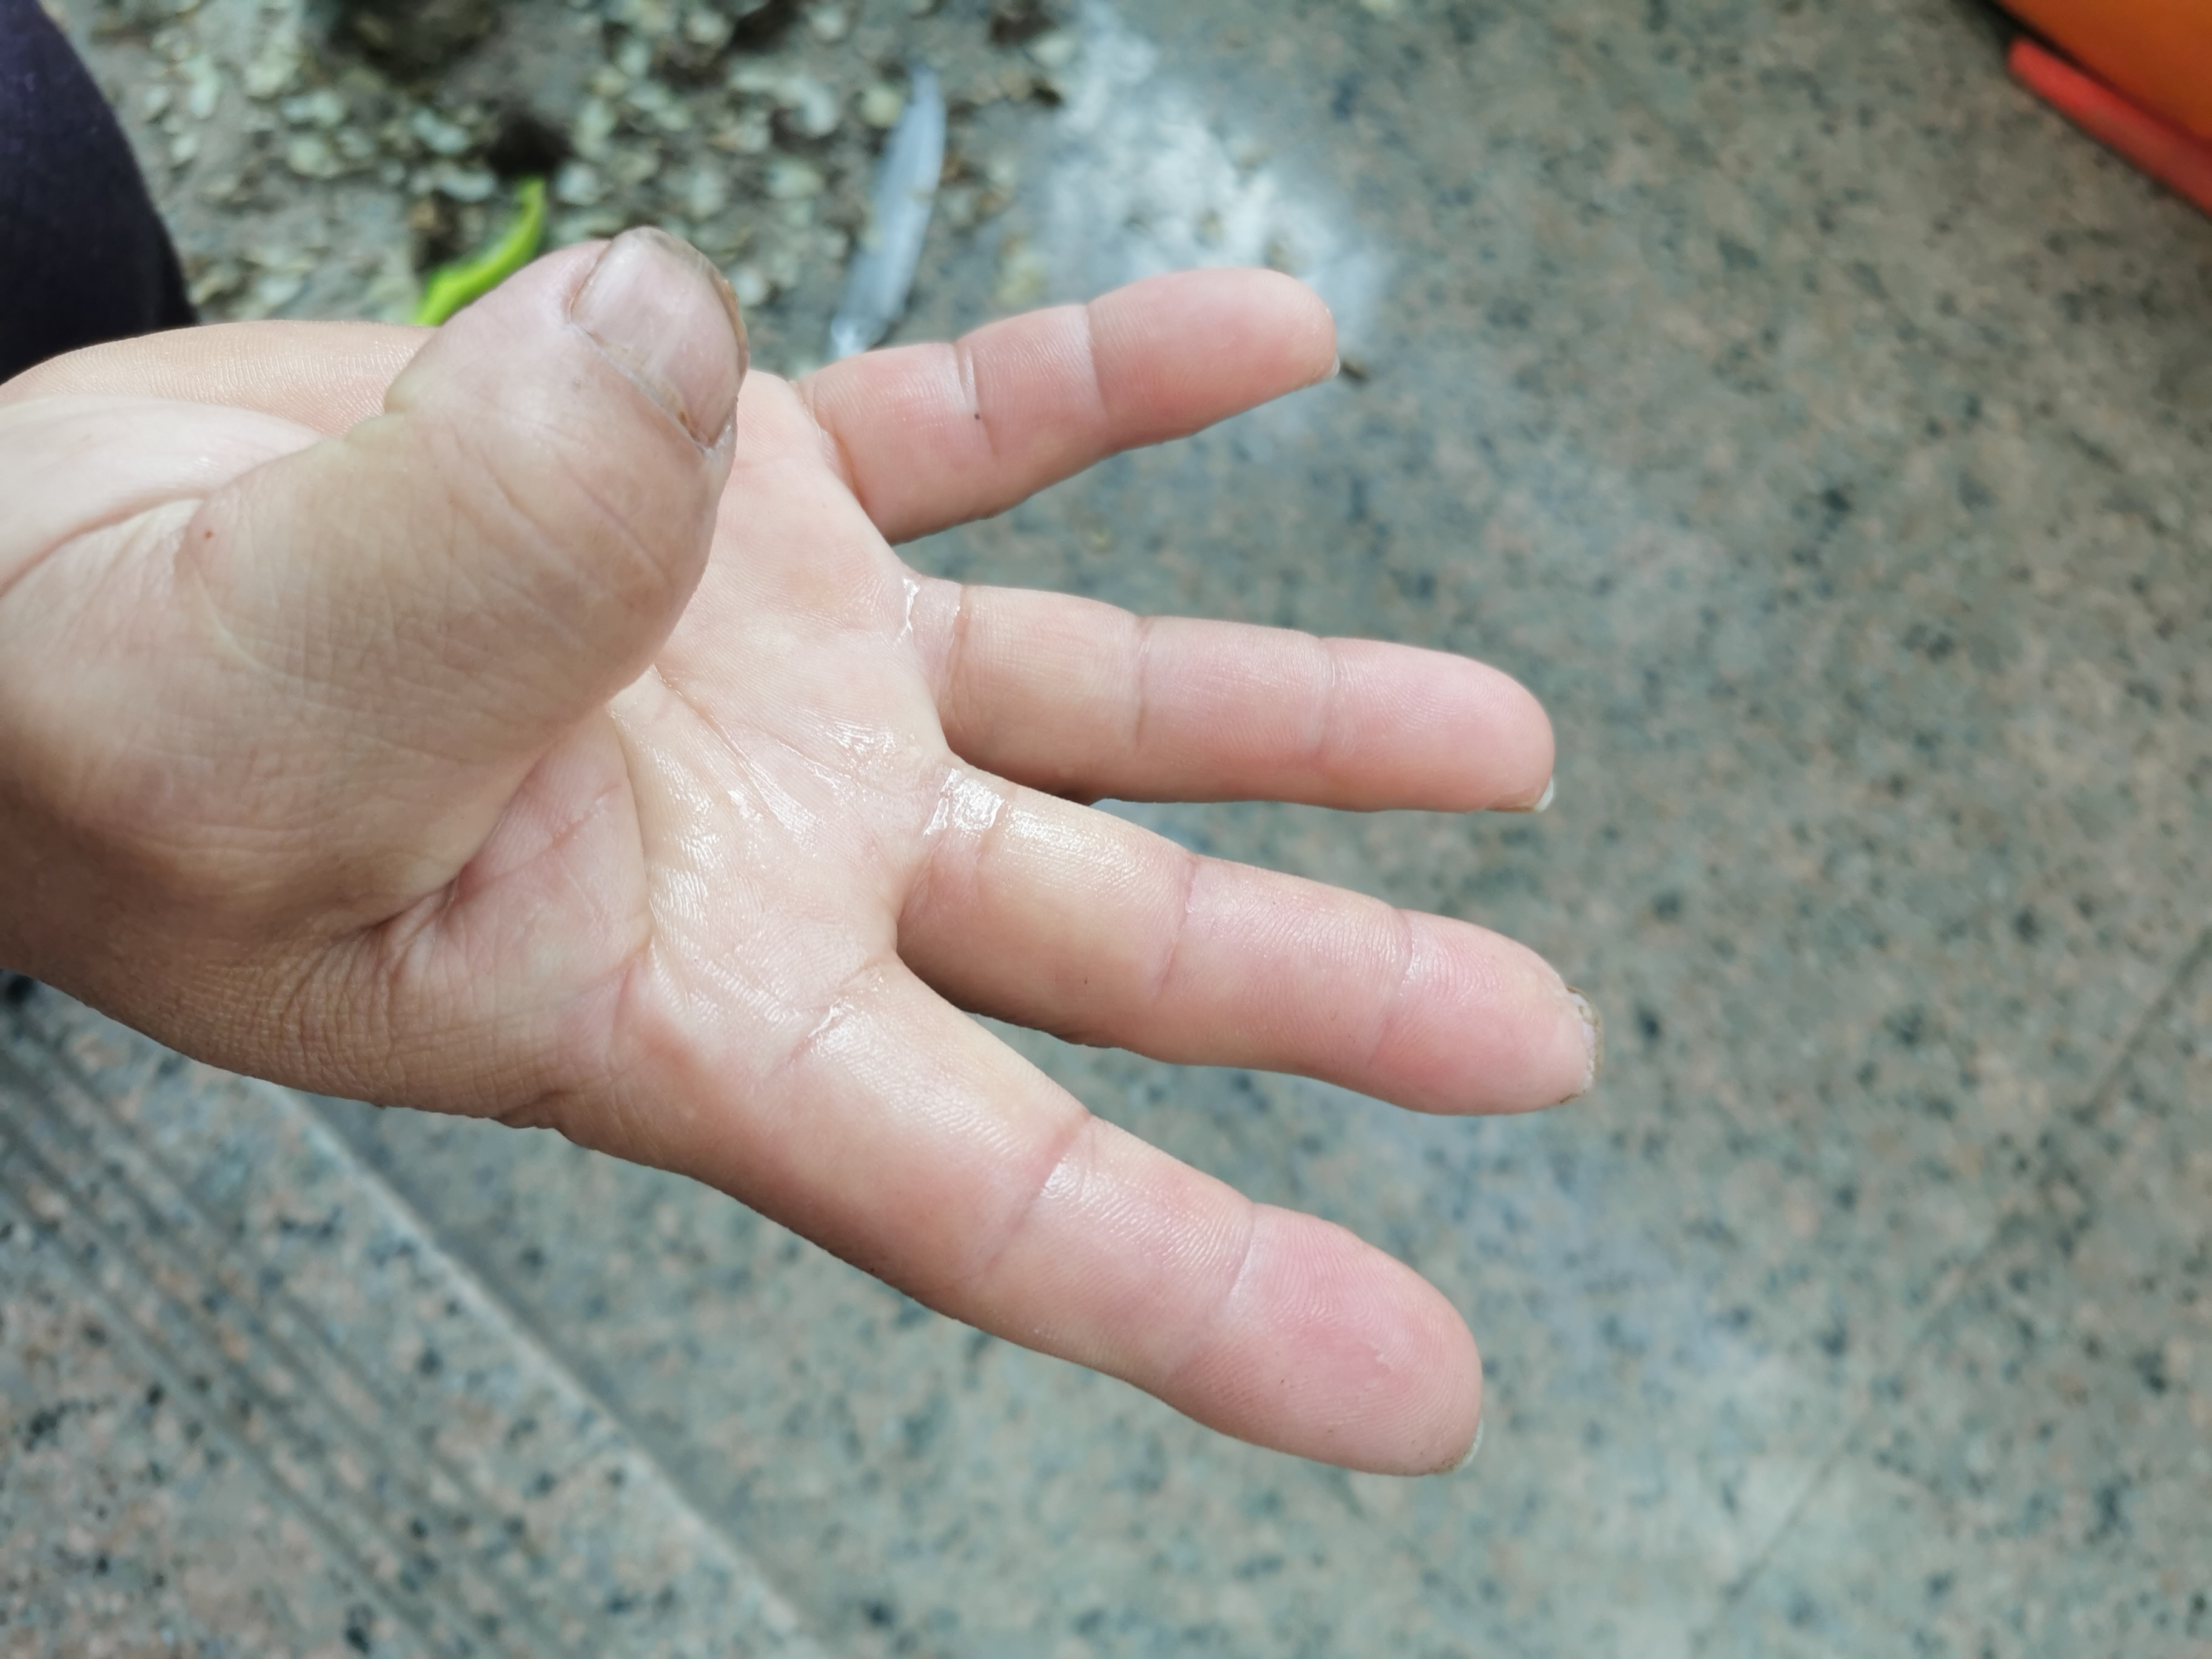right: (30, 253, 1613, 1485)
